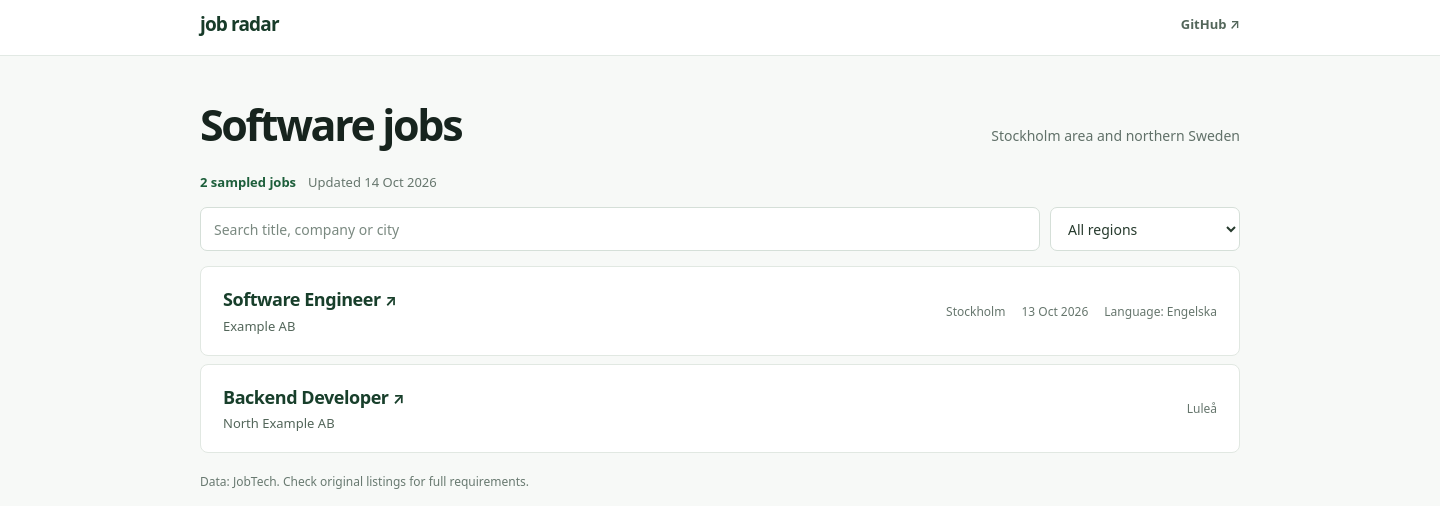
public job view › loads validated jobs and filters by region
The image size is (1440, 506).
expect the link "Software Engineer ↗" is shown: met, box [223, 287, 396, 311]
expect the link "Backend Developer ↗" is shown: met, box [223, 385, 404, 409]
Select "Stockholm" in the dropdown named "Region" at (1145, 229), box [1050, 207, 1240, 251]
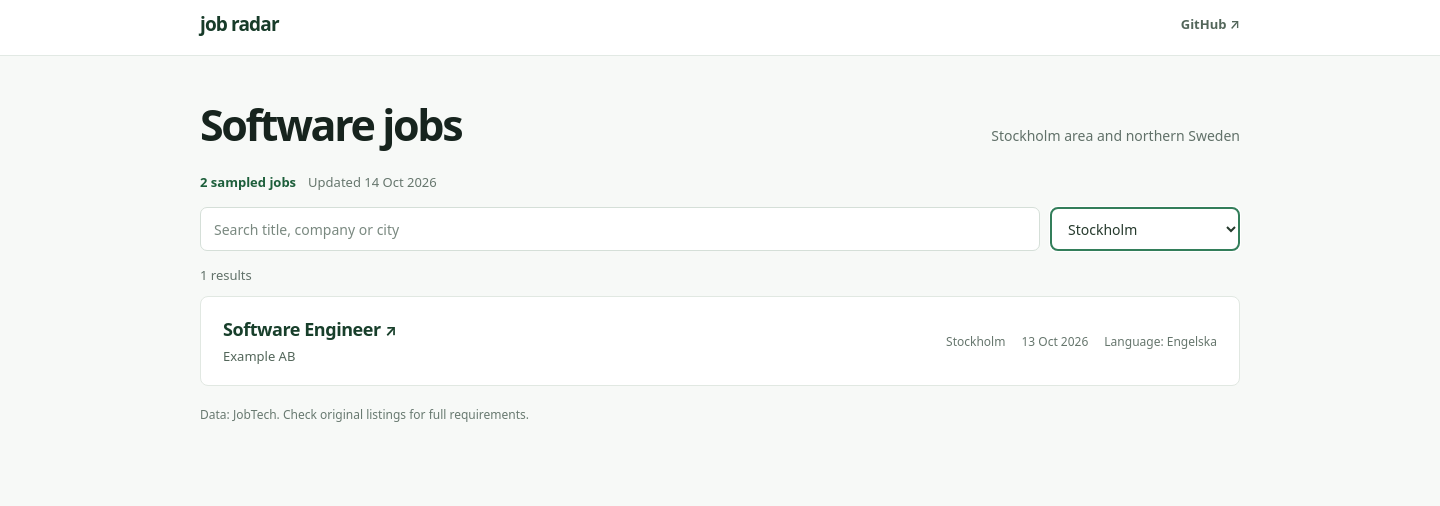
expect the link "Backend Developer" is gone: met
